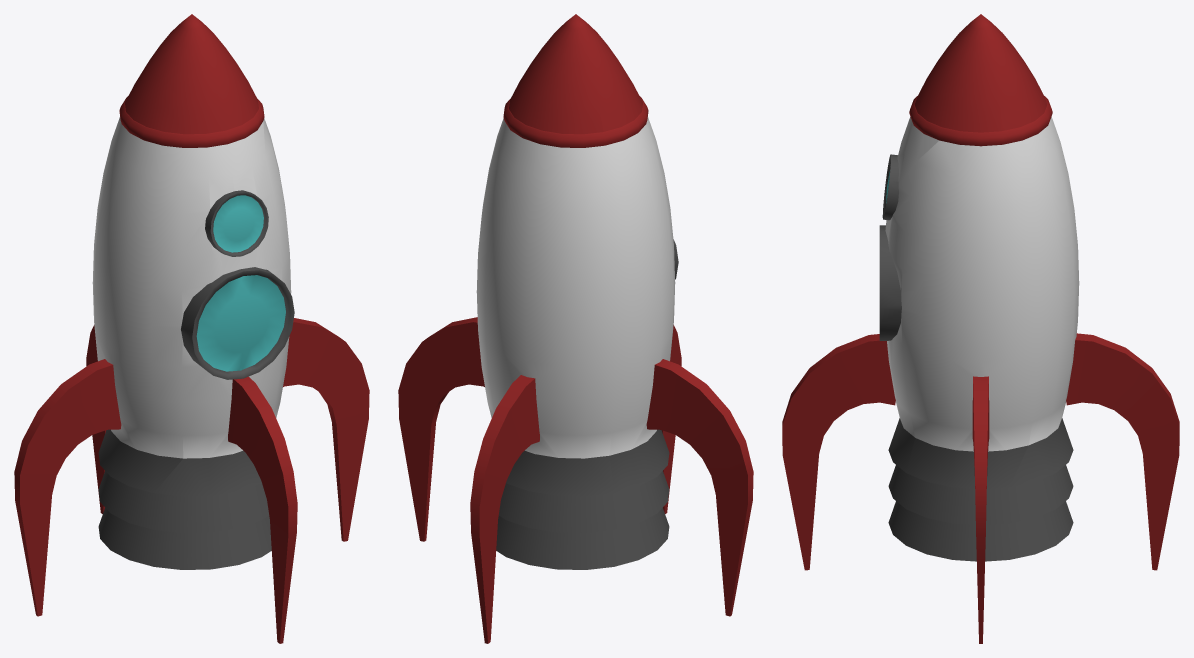
The model's file is Rocket.fbx.
The picture shows the model from 3 angles, left to right: view 1: azimuth 30°, elevation 25°; view 2: azimuth 150°, elevation 25°; view 3: azimuth 270°, elevation 25°; orthographic projection.
Visible parts, largest first — view 1: pTorus2; view 2: pTorus2; view 3: pTorus2.
Boxes of the visible parts, x1,y1,x2,y2 form: pTorus2: [14, 14, 369, 643]; pTorus2: [398, 14, 753, 643]; pTorus2: [782, 14, 1179, 643].
Bounding box in the file's own units: 4.05 × 6.24 × 4.05.
